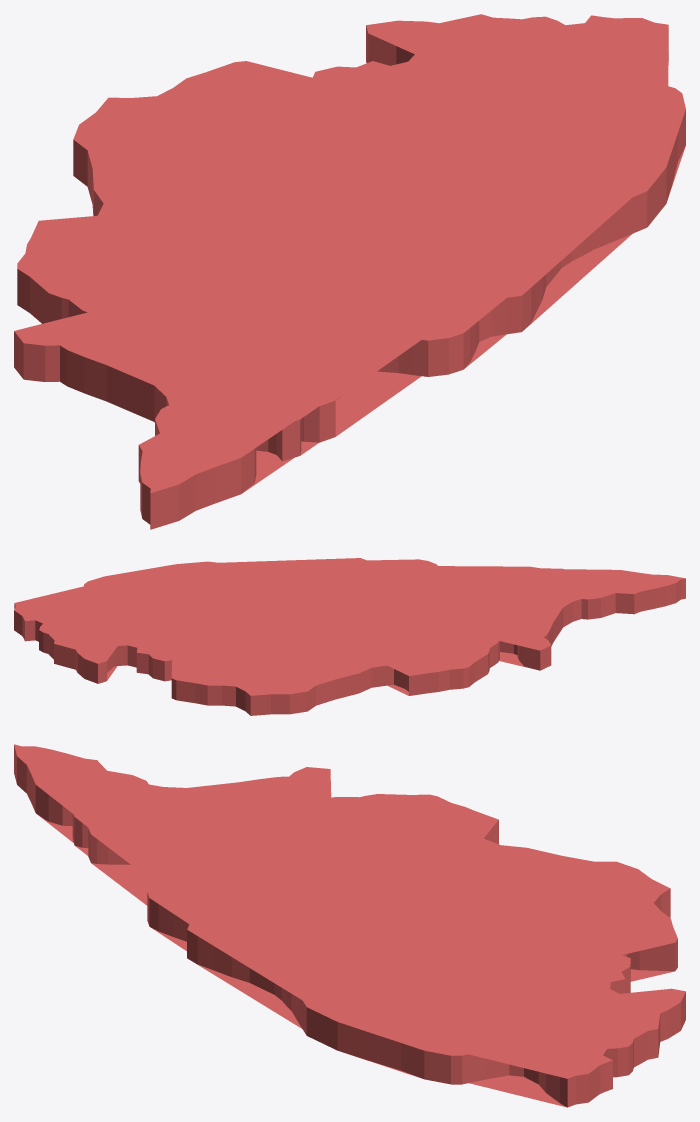
Rendered from orissa.fbx.
3 views of the same model, one above another, from view 1: azimuth 30°, elevation 25°; view 2: azimuth 150°, elevation 25°; view 3: azimuth 270°, elevation 25° (orthographic). The views are drawn at different scales.
Parts seen in each view (by area): view 1: Orissa; view 2: Orissa; view 3: Orissa.
Boxes of the visible parts, <box> form: Orissa: <box>14,14,685,529</box>; Orissa: <box>14,558,685,715</box>; Orissa: <box>14,744,685,1107</box>.
Size of the model in its own units: 89.68 by 3.59 by 76.14.
